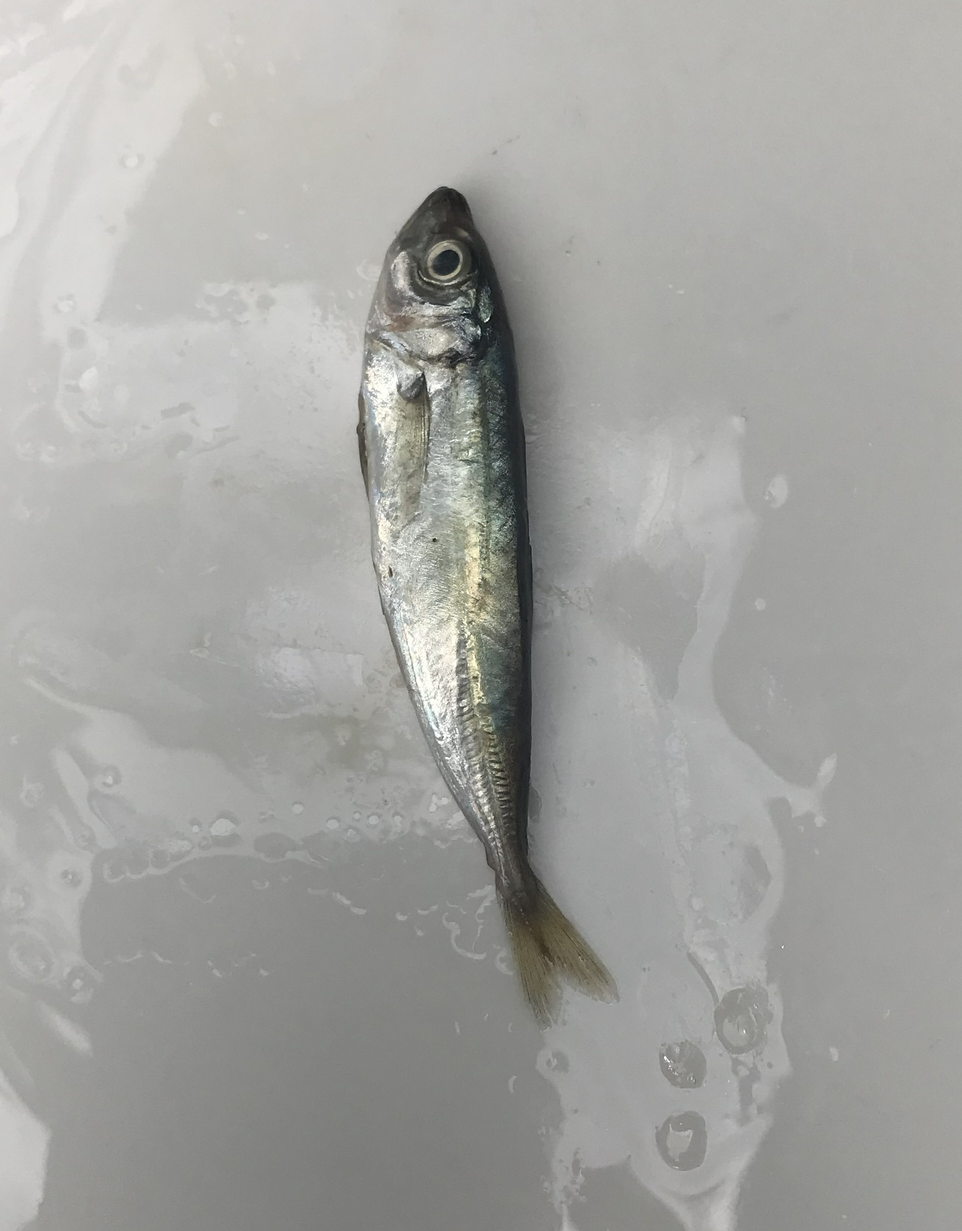burot_not_dried: (38, 186, 686, 1231), (687, 916, 923, 1231), (243, 702, 398, 795), (416, 527, 466, 602), (655, 1111, 707, 1171), (659, 1039, 706, 1089)
